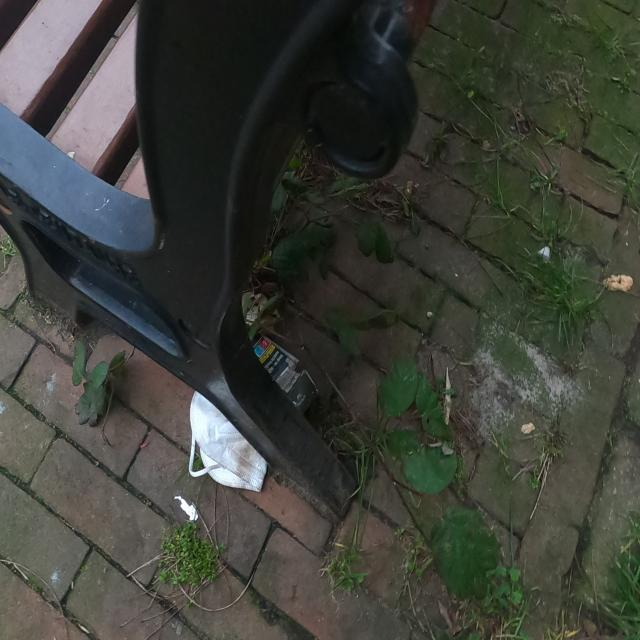Mask: (185, 388, 268, 494)
Paper: (252, 333, 320, 415)
